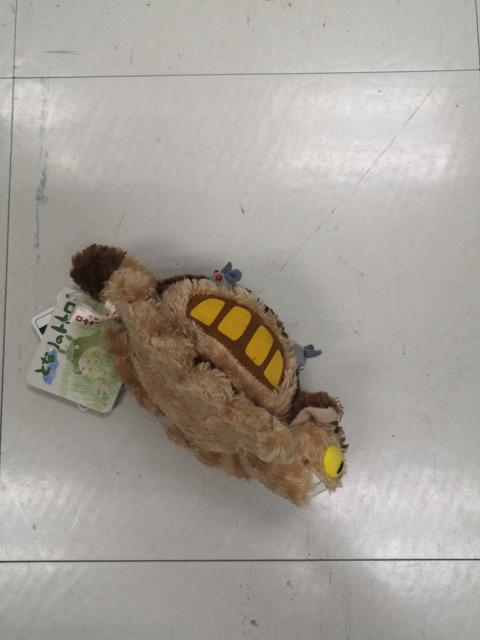nekobus: (60, 227, 357, 517)
